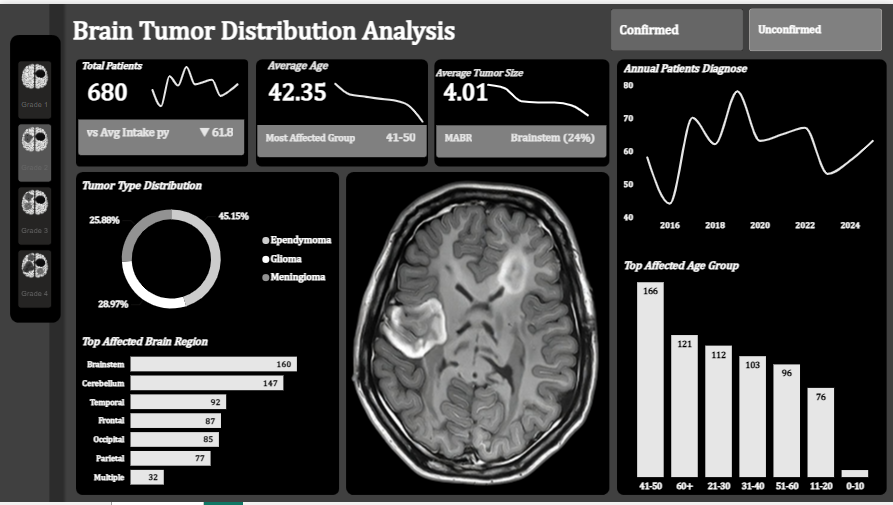

Layout of this report page (visuals, bound fields, positions):
{"tool":"powerbi","page":{"name":"Overview","canvas":[1280,720],"ordinal":0},"visuals":[{"type":"cardVisual","fields":{"Data":["Count(Brain Tumor Data.Patient ID)"]},"box":[97,79,187,97],"z":0},{"type":"lineChart","fields":{"Category":["Brain Tumor Data.Date of Diagnosis.Variation.Date Hierarchy.Year"],"Y":["CountNonNull(Brain Tumor Data.Patient ID)"]},"box":[204.3,72.9,151.4,85.7],"z":1000},{"type":"cardVisual","fields":{"Data":["Count(Brain Tumor Data.Patient ID)"]},"box":[84.3,60,295.7,185.7],"z":2000},{"type":"textbox","box":[112.5,73.9,147.8,30.2],"z":3000},{"type":"cardVisual","fields":{"Data":["Avg(Brain Tumor Data.Age)"]},"box":[356.1,79,186.5,97.4],"z":4000},{"type":"lineChart","fields":{"Category":["Brain Tumor Data.Age Group"],"Y":["Count(Brain Tumor Data.Patient ID)"]},"box":[467,89,151.2,87.3],"z":5000},{"type":"cardVisual","fields":{"Data":["Count(Brain Tumor Data.Patient ID)"]},"box":[340,72.9,300,175.7],"z":5001},{"type":"textbox","box":[378,73.9,115.9,30.2],"z":5002},{"type":"cardVisual","fields":{"Data":["Avg(Brain Tumor Data.Tumor Size (cm))"]},"box":[606.4,79,186.5,97.4],"z":5003},{"type":"lineChart","fields":{"Category":["Brain Tumor Data.Affected Brain Region"],"Y":["Sum(Brain Tumor Data.Tumor Size (cm))"]},"box":[683.7,89,171.3,87.3],"z":5004},{"type":"cardVisual","fields":{"Data":["Count(Brain Tumor Data.Patient ID)"]},"box":[595.7,74.3,301.4,174.3],"z":5005},{"type":"textbox","box":[618.3,85,175,31.7],"z":5006},{"type":"advancedSlicerVisual","fields":{"Values":["Brain Tumor Data.Histology Confirmation"]},"box":[868.6,1.4,398.6,71.4],"z":5007},{"type":"ChicletSlicer1448559807354","fields":{"Category":["Tumor Images.Tumor Grade"],"Image":["Tumor Images.Icon URL"]},"box":[18.4,72.3,65.2,374.2],"z":5008},{"type":"imageDB603108E3FF4EBFB8047F5653368E8C","fields":{"imageUrl":["Tumor Images.Image URL"]},"box":[495,231.7,373.3,471.7],"z":5010},{"type":"donutChart","fields":{"Category":["Brain Tumor Data.Tumor Type"],"Y":["CountNonNull(Brain Tumor Data.Patient ID)"]},"box":[113.3,260,376.7,208.3],"z":5011},{"type":"textbox","box":[113.3,245,323.3,31.7],"z":5012},{"type":"clusteredBarChart","fields":{"Category":["Brain Tumor Data.Affected Brain Region"],"Y":["CountNonNull(Brain Tumor Data.Patient ID)"]},"box":[112.9,480,377.1,222.9],"z":5013},{"type":"textbox","box":[112.9,468.6,354.3,42.9],"z":5014},{"type":"lineChart","fields":{"Category":["Brain Tumor Data.Date of Diagnosis.Variation.Date Hierarchy.Year"],"Y":["CountNonNull(Brain Tumor Data.Patient ID)"]},"box":[887.1,101.4,380,228.6],"z":5015},{"type":"textbox","box":[887.1,78.6,272.9,37.1],"z":5016},{"type":"clusteredColumnChart","fields":{"Category":["Brain Tumor Data.Age Group"],"Y":["CountNonNull(Brain Tumor Data.Patient ID)"]},"box":[887.1,360,380,342.9],"z":5017},{"type":"textbox","box":[887.1,360,370,45.7],"z":5018},{"type":"textbox","box":[100,12.9,718.6,60],"z":5019}]}

Visuals, with their boxes on the page's 1280x720 design canvas (x1, y1, x2, y2). These are canvas units, not pixel positions in the 893x505 screenshot, which may show the page scaled, cropped or inside an application window:
cardVisual - Count(Brain Tumor Data.Patient ID): crop(97, 79, 284, 176)
lineChart - Brain Tumor Data.Date of Diagnosis.Variation.Date Hierarchy.Year x CountNonNull(Brain Tumor Data.Patient ID): crop(204, 73, 356, 159)
cardVisual - Count(Brain Tumor Data.Patient ID): crop(84, 60, 380, 246)
textbox: crop(112, 74, 260, 104)
cardVisual - Avg(Brain Tumor Data.Age): crop(356, 79, 543, 176)
lineChart - Brain Tumor Data.Age Group x Count(Brain Tumor Data.Patient ID): crop(467, 89, 618, 176)
cardVisual - Count(Brain Tumor Data.Patient ID): crop(340, 73, 640, 249)
textbox: crop(378, 74, 494, 104)
cardVisual - Avg(Brain Tumor Data.Tumor Size (cm)): crop(606, 79, 793, 176)
lineChart - Brain Tumor Data.Affected Brain Region x Sum(Brain Tumor Data.Tumor Size (cm)): crop(684, 89, 855, 176)
cardVisual - Count(Brain Tumor Data.Patient ID): crop(596, 74, 897, 249)
textbox: crop(618, 85, 793, 117)
advancedSlicerVisual - Brain Tumor Data.Histology Confirmation: crop(869, 1, 1267, 73)
ChicletSlicer1448559807354 - Tumor Images.Tumor Grade x Tumor Images.Icon URL: crop(18, 72, 84, 446)
imageDB603108E3FF4EBFB8047F5653368E8C - Tumor Images.Image URL: crop(495, 232, 868, 703)
donutChart - Brain Tumor Data.Tumor Type x CountNonNull(Brain Tumor Data.Patient ID): crop(113, 260, 490, 468)
textbox: crop(113, 245, 437, 277)
clusteredBarChart - Brain Tumor Data.Affected Brain Region x CountNonNull(Brain Tumor Data.Patient ID): crop(113, 480, 490, 703)
textbox: crop(113, 469, 467, 512)
lineChart - Brain Tumor Data.Date of Diagnosis.Variation.Date Hierarchy.Year x CountNonNull(Brain Tumor Data.Patient ID): crop(887, 101, 1267, 330)
textbox: crop(887, 79, 1160, 116)
clusteredColumnChart - Brain Tumor Data.Age Group x CountNonNull(Brain Tumor Data.Patient ID): crop(887, 360, 1267, 703)
textbox: crop(887, 360, 1257, 406)
textbox: crop(100, 13, 819, 73)
